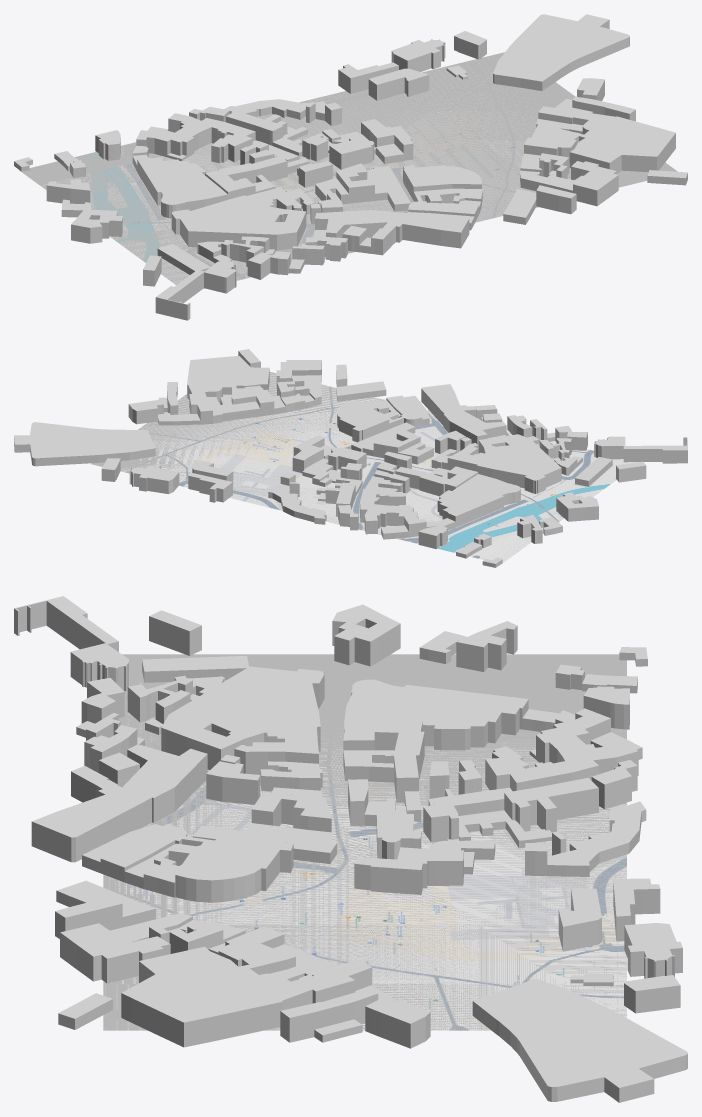
Rendered from Brunnen.fbx.
3 views of the same model, one above another, from view 1: azimuth 30°, elevation 25°; view 2: azimuth 150°, elevation 25°; view 3: azimuth 270°, elevation 25° (orthographic). The views are drawn at different scales.
Visible parts, largest first — view 1: Areas:building, EXPORT_GOOGLE_SAT_WM, EXPORT_GOOGLE_MAP_WM; view 2: Areas:building, EXPORT_GOOGLE_MAP_WM, EXPORT_GOOGLE_SAT_WM; view 3: Areas:building, EXPORT_GOOGLE_SAT_WM, EXPORT_GOOGLE_MAP_WM.
Boxes of the visible parts, x1=… form: Areas:building: x1=14, y1=14, x2=687, y2=320; EXPORT_GOOGLE_SAT_WM: x1=20, y1=52, x2=677, y2=288; EXPORT_GOOGLE_MAP_WM: x1=42, y1=56, x2=542, y2=288; Areas:building: x1=14, y1=349, x2=687, y2=567; EXPORT_GOOGLE_MAP_WM: x1=121, y1=372, x2=638, y2=563; EXPORT_GOOGLE_SAT_WM: x1=91, y1=372, x2=562, y2=558; Areas:building: x1=14, y1=596, x2=687, y2=1102; EXPORT_GOOGLE_SAT_WM: x1=103, y1=654, x2=626, y2=1030; EXPORT_GOOGLE_MAP_WM: x1=105, y1=677, x2=626, y2=1030.
Bounding box in the file's own units: 83240 × 2000 × 49180.
